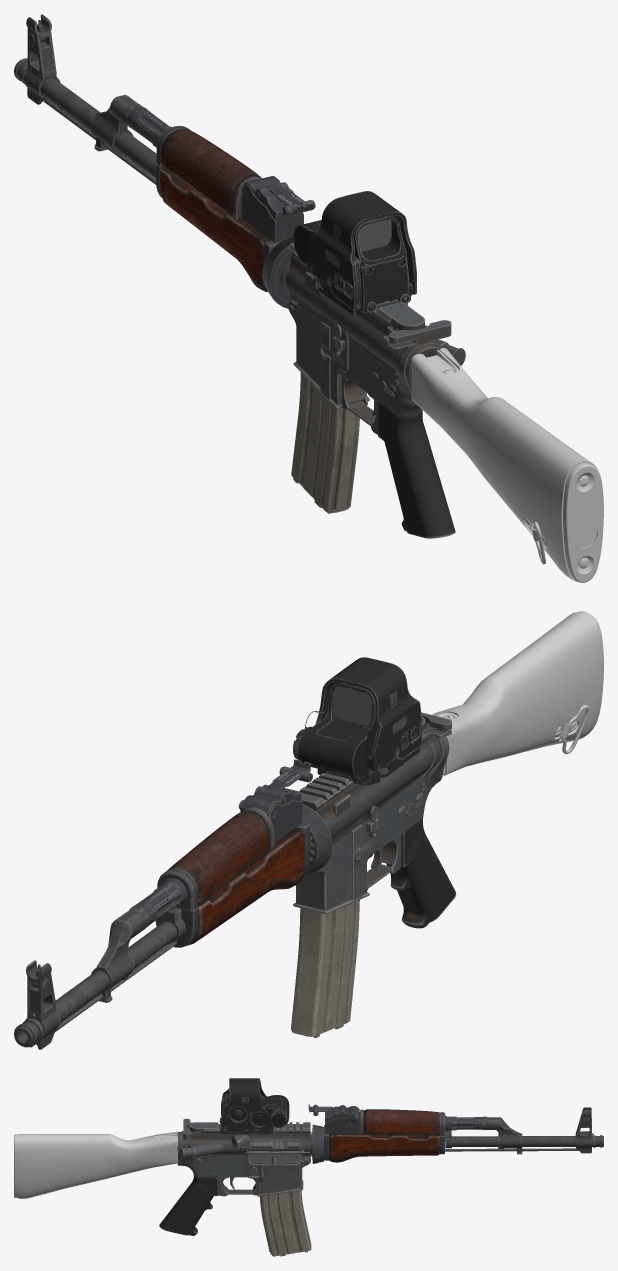
3 renders of one model, top to bottom at view 1: azimuth 30°, elevation 25°; view 2: azimuth 150°, elevation 25°; view 3: azimuth 270°, elevation 25°, orthographic. The views are drawn at different scales.
Parts seen in each view (by area): view 1: polySurface63, m4_re, polySurface35, m5:scope:scope, m4_high:m4_high:m4_high:m4_high:polySurface83; view 2: polySurface63, m4_re, polySurface35, m5:scope:scope, m4_high:m4_high:m4_high:m4_high:polySurface83; view 3: polySurface63, m4_re, polySurface35, m5:scope:scope, m4_high:m4_high:m4_high:m4_high:polySurface83.
Part boxes in pixels (<box>): polySurface63: <box>14,14,315,308</box>; m4_re: <box>285,243,465,538</box>; polySurface35: <box>411,348,603,582</box>; m5:scope:scope: <box>293,191,416,315</box>; m4_high:m4_high:m4_high:m4_high:polySurface83: <box>291,340,359,513</box>; polySurface63: <box>14,759,332,1049</box>; m4_re: <box>293,712,456,928</box>; polySurface35: <box>432,611,603,775</box>; m5:scope:scope: <box>293,657,421,785</box>; m4_high:m4_high:m4_high:m4_high:polySurface83: <box>291,900,359,1037</box>; polySurface63: <box>308,1104,603,1163</box>; m4_re: <box>159,1118,310,1235</box>; polySurface35: <box>14,1131,177,1198</box>; m5:scope:scope: <box>219,1078,289,1134</box>; m4_high:m4_high:m4_high:m4_high:polySurface83: <box>259,1190,311,1256</box>.
Bounding box in the file's own units: 6.88 × 28.18 × 87.73.
